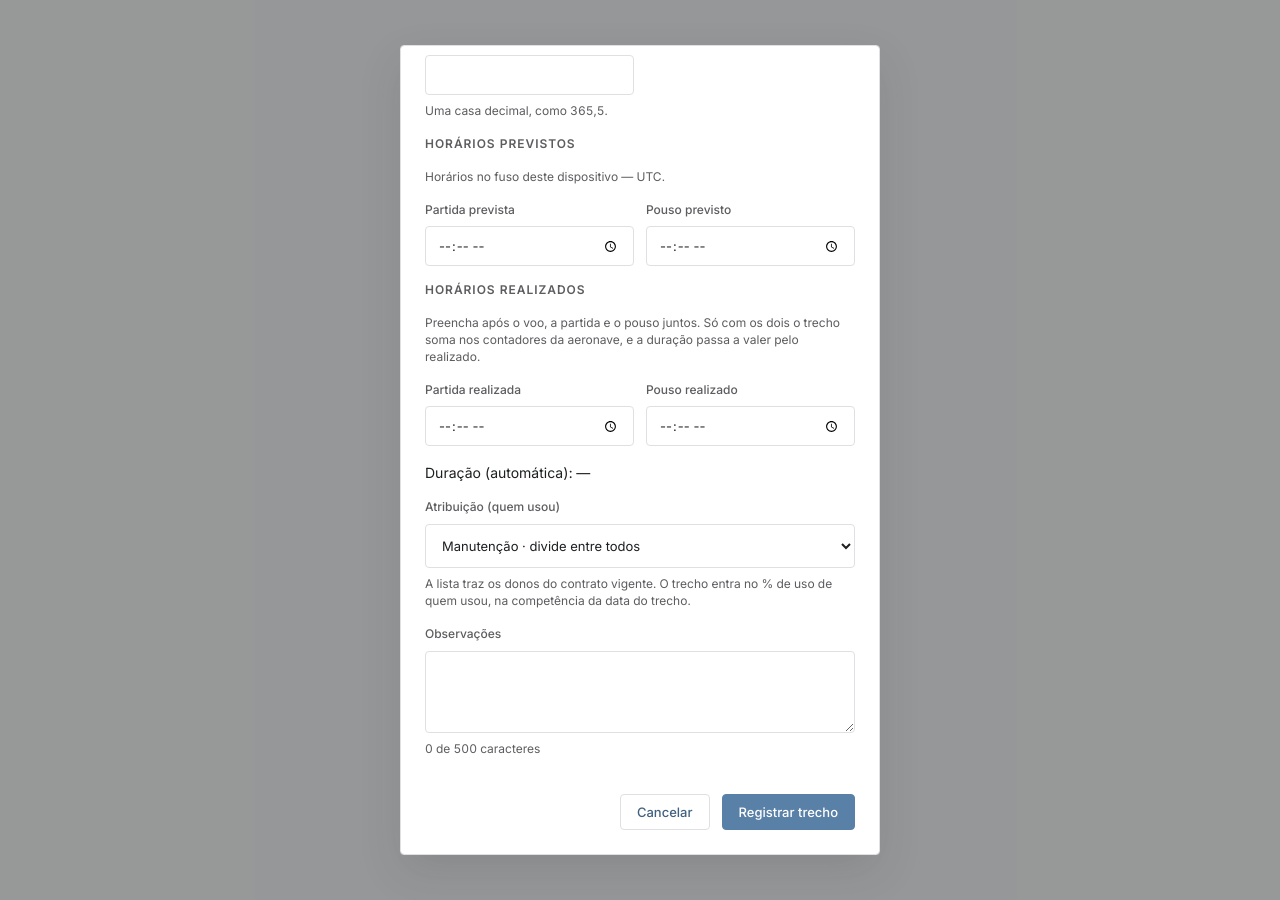
Test case: PainelDeTrecho › a aeronave da URL que não está na frota não é enviada
(page scrolled)
Click the button "Registrar trecho".
click(788, 812)  # box x1=722 y1=794 x2=855 y2=830
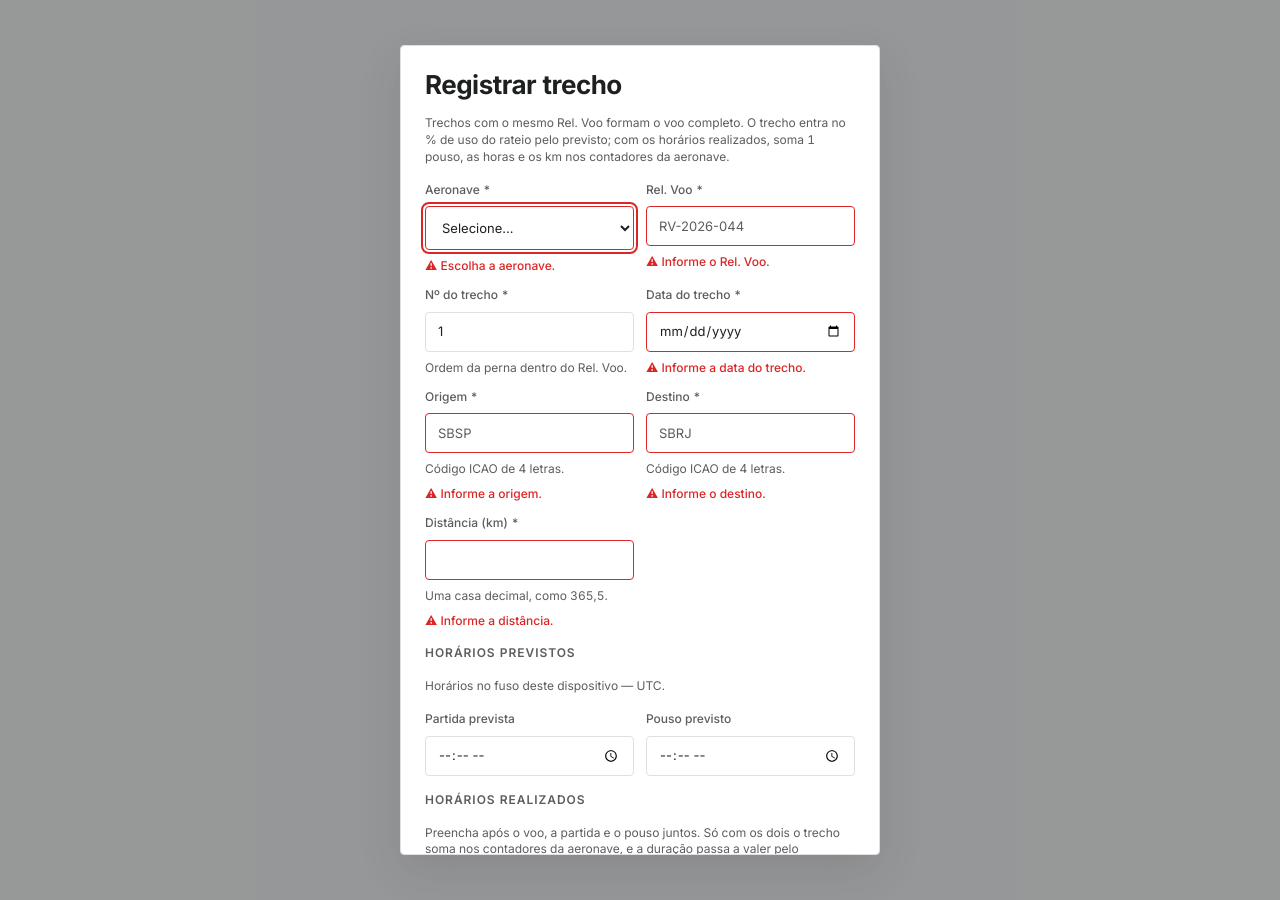
Now the dropdown labelled "Aeronave" shows "Selecione…", box x1=425 y1=206 x2=634 y2=250
